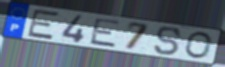4: (60, 14, 86, 44)
7: (124, 21, 152, 51)
E: (25, 8, 62, 41), (87, 17, 123, 49)
O: (184, 31, 214, 60)
S: (153, 26, 184, 57)
